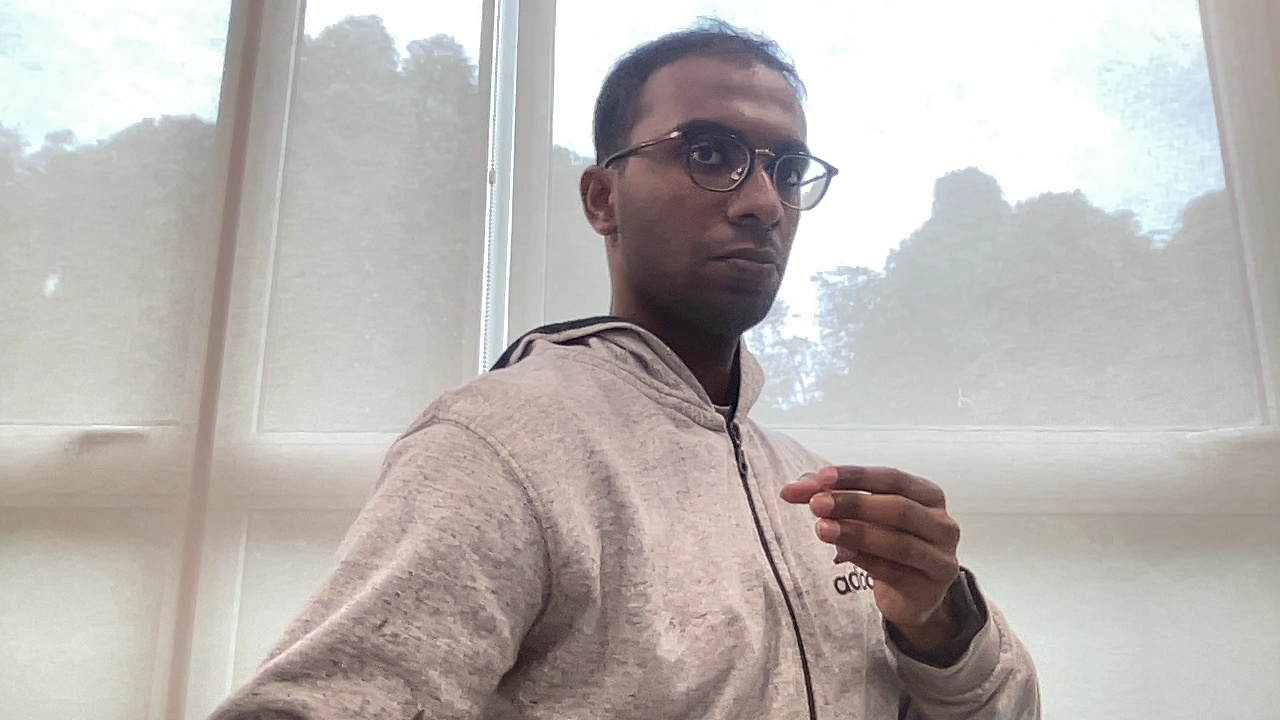drink: (772, 462, 990, 646)
